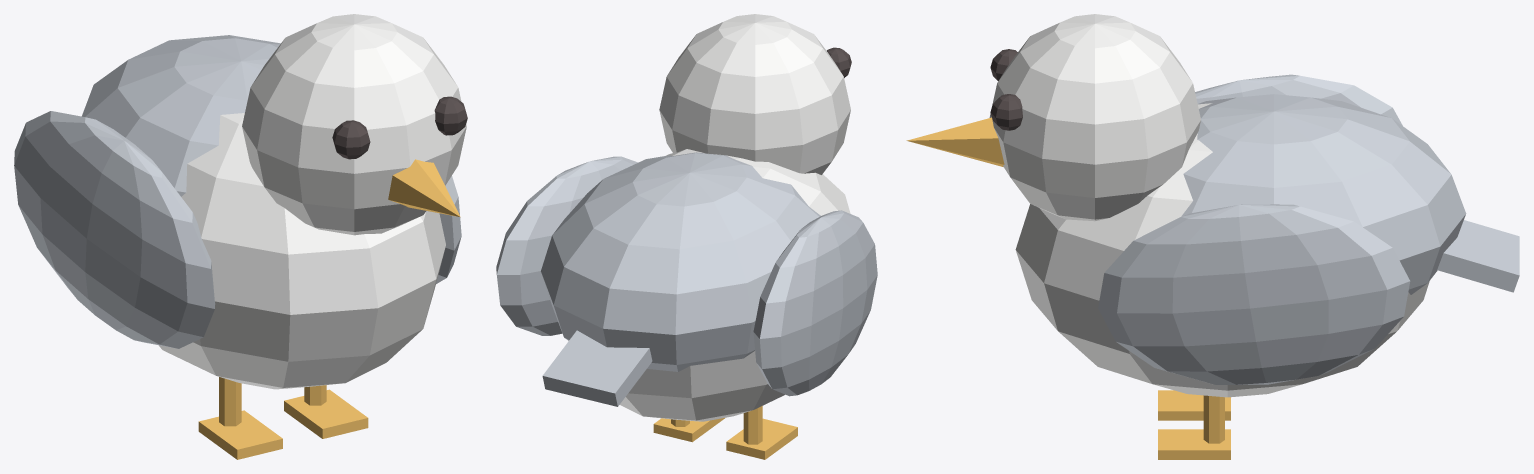
Rendered from Seagull.fbx.
3 views of the same model, side by side, from view 1: azimuth 30°, elevation 25°; view 2: azimuth 150°, elevation 25°; view 3: azimuth 270°, elevation 25° (orthographic). The views are drawn at different scales.
Parts seen in each view (by area): view 1: Seagull_Model; view 2: Seagull_Model; view 3: Seagull_Model.
Part boxes in pixels (box(x1,y1,x2,y2)): Seagull_Model: box(14, 14, 467, 459); Seagull_Model: box(496, 14, 877, 459); Seagull_Model: box(906, 14, 1519, 459).
Size of the model in its own units: 0.5644 by 0.69 by 0.9257.
